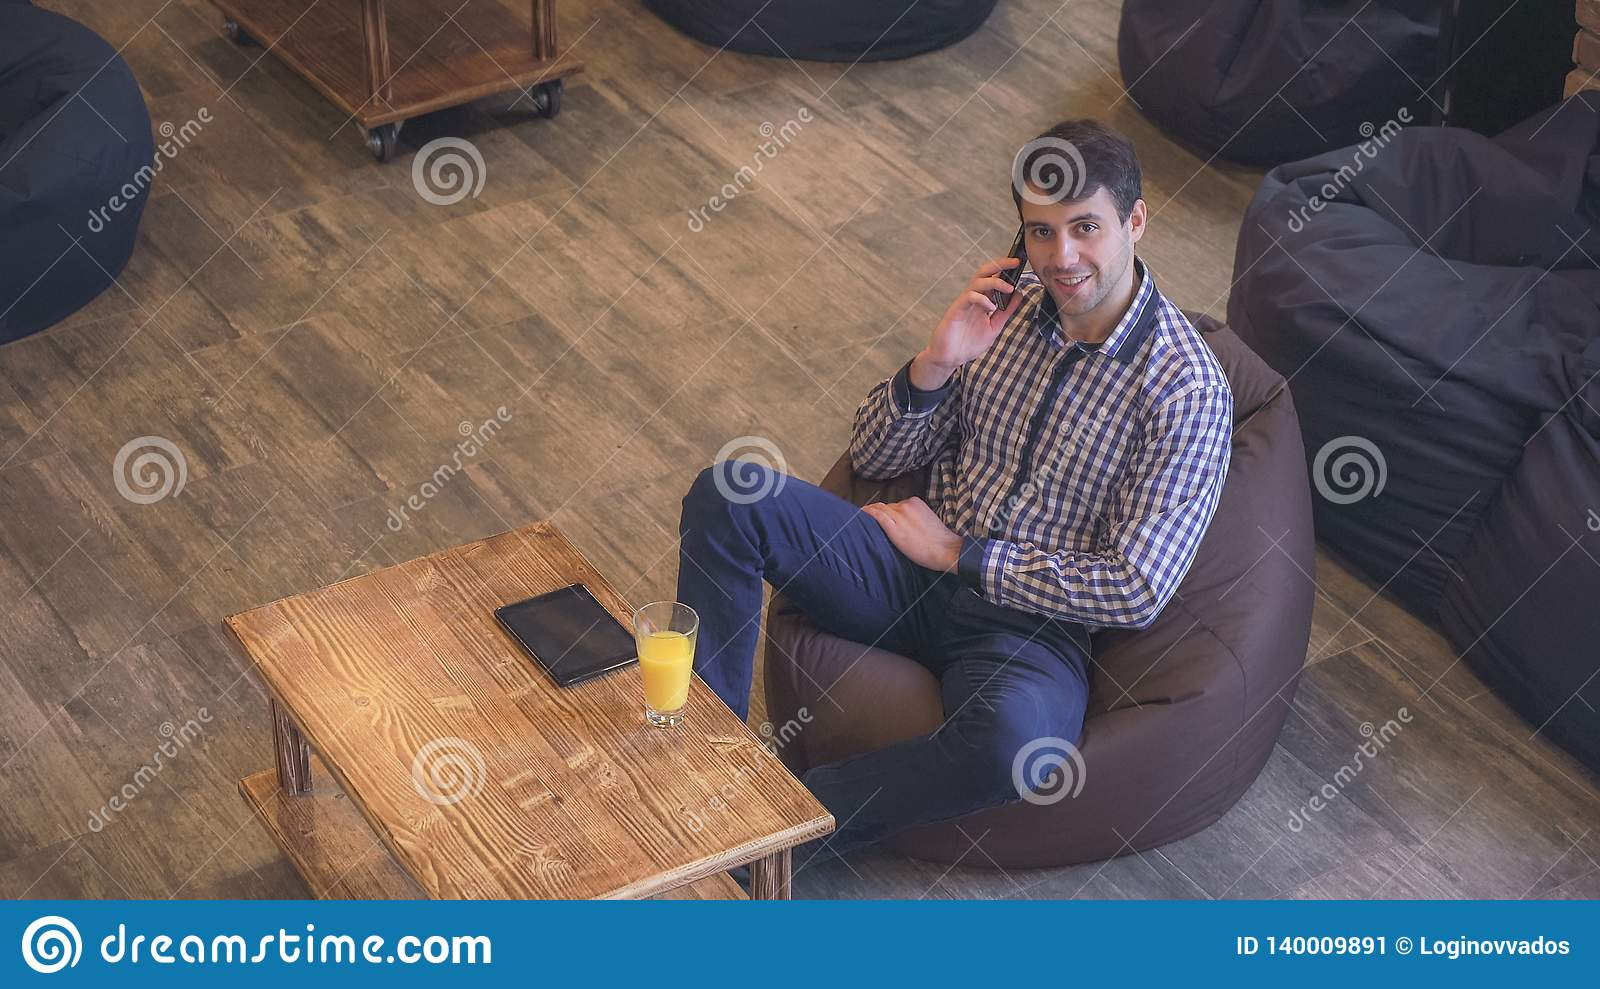phone: (990, 214, 1029, 312)
talk: (926, 209, 1115, 368)
